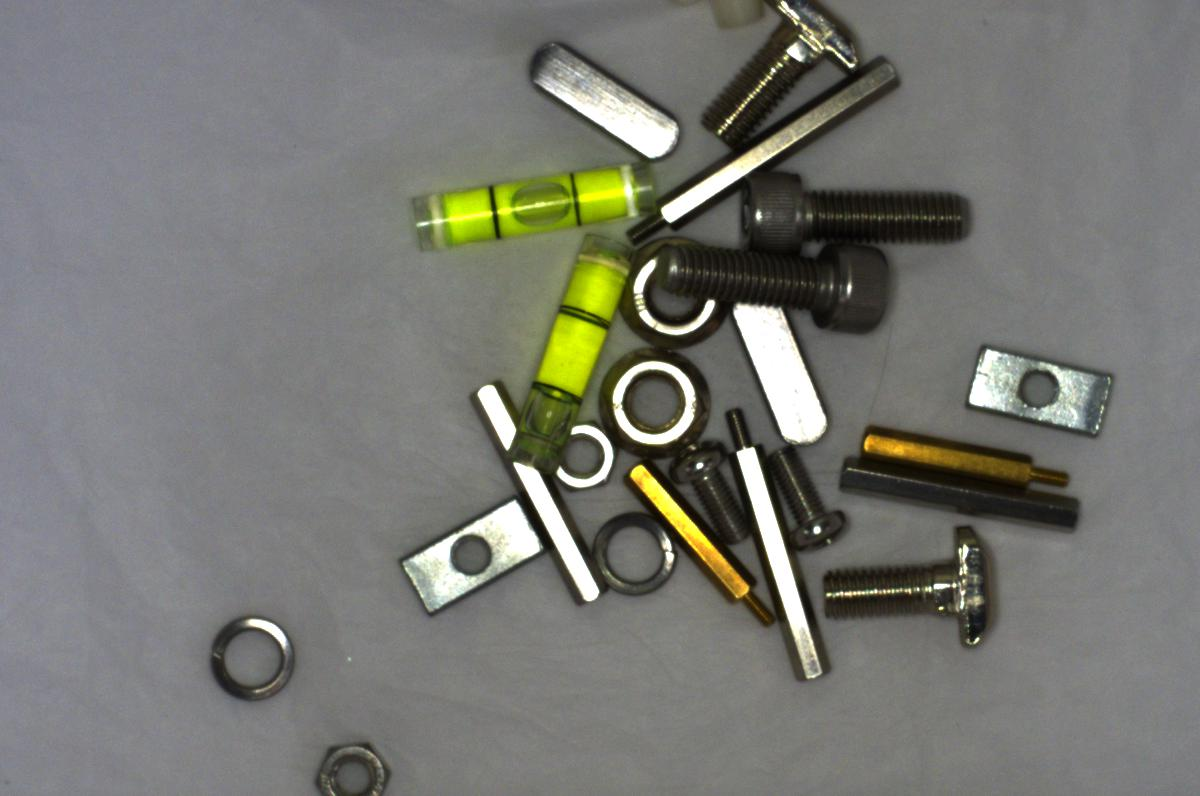Double hexagonal column: (465, 372, 608, 615)
Flange nut: (612, 242, 733, 351), (594, 358, 717, 460)
Hexagon nut: (300, 733, 397, 795), (553, 418, 619, 499)
Hexagon pillar: (629, 468, 789, 635), (856, 417, 1076, 487)
Hexagon screw: (651, 232, 900, 340), (734, 162, 970, 246)
Hexagonal steel column: (625, 62, 929, 242), (721, 398, 837, 690)
Horizontal bubble: (507, 231, 632, 464), (407, 151, 664, 255)
Keybar: (519, 40, 682, 165), (737, 295, 838, 450)
Rectangular nut: (407, 498, 551, 617), (965, 346, 1121, 437)
Round head screw: (770, 435, 853, 556), (674, 433, 748, 551)
Spring washer: (192, 606, 308, 708), (585, 505, 684, 599)
T-shaped screw: (815, 530, 1008, 665), (705, 4, 862, 144)
